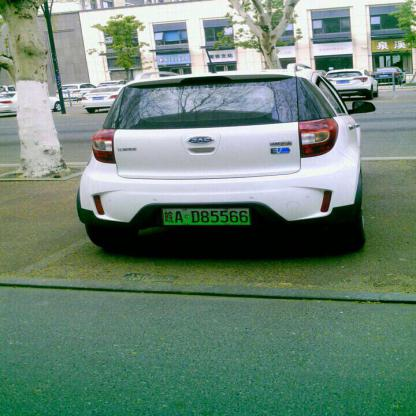lp: (162, 208, 250, 224)
